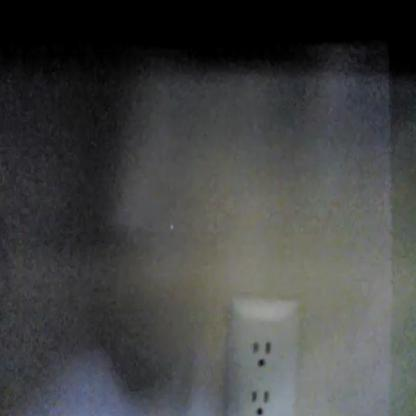OUTLET: (226, 297, 298, 415)
